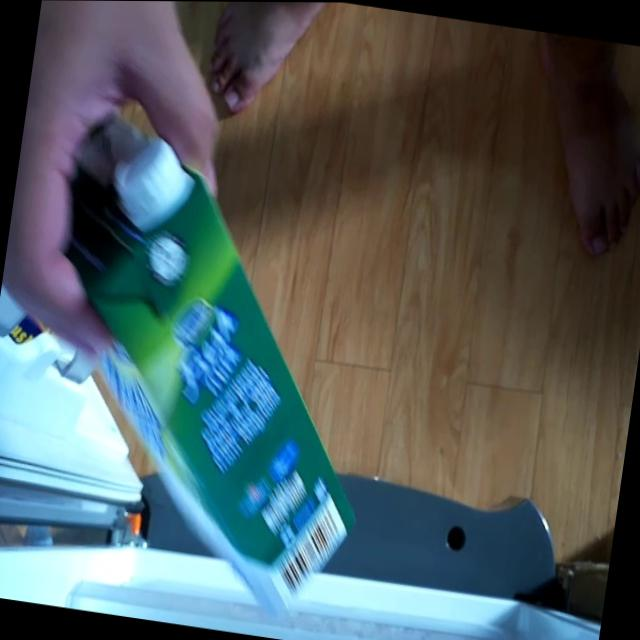milk: (4, 108, 409, 623)
